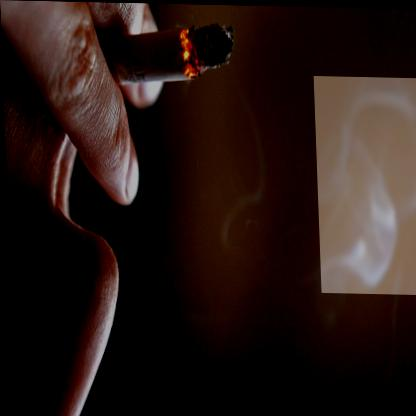smoke: (313, 74, 416, 293)
